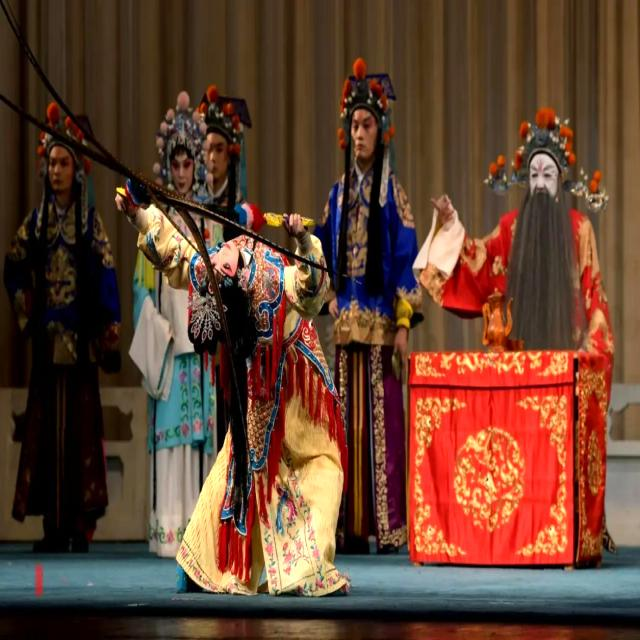Reeves-s Pheasant: (0, 94, 300, 258), (0, 0, 79, 124), (190, 221, 209, 269)
